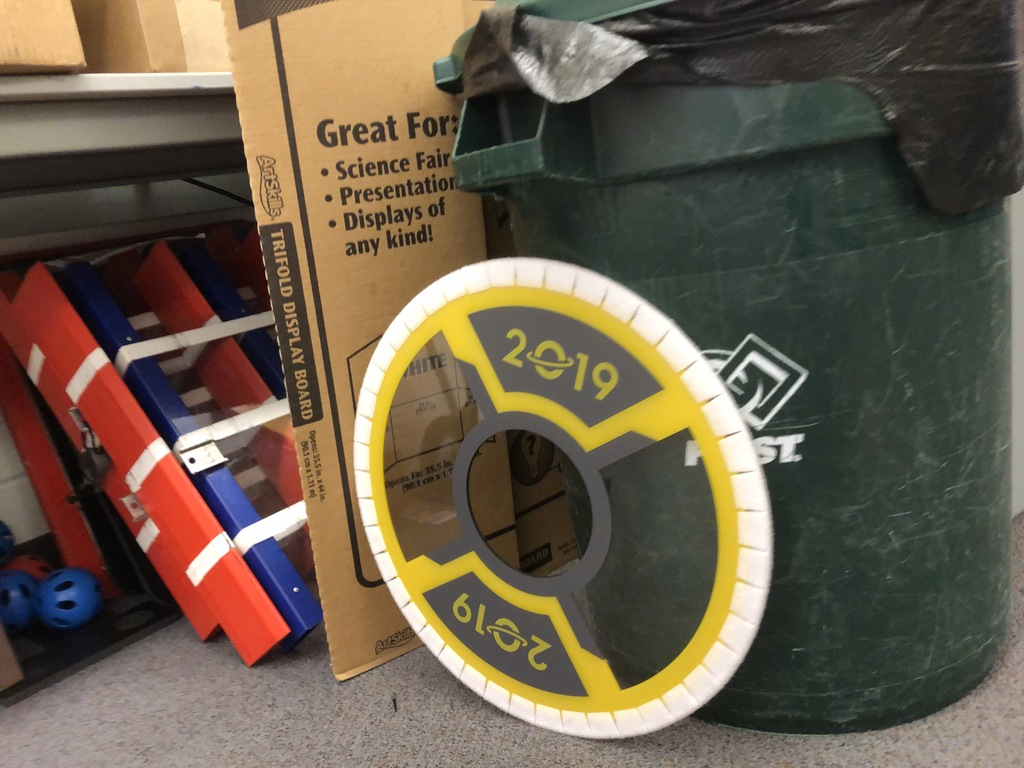hatch_panel: (334, 248, 811, 746)
